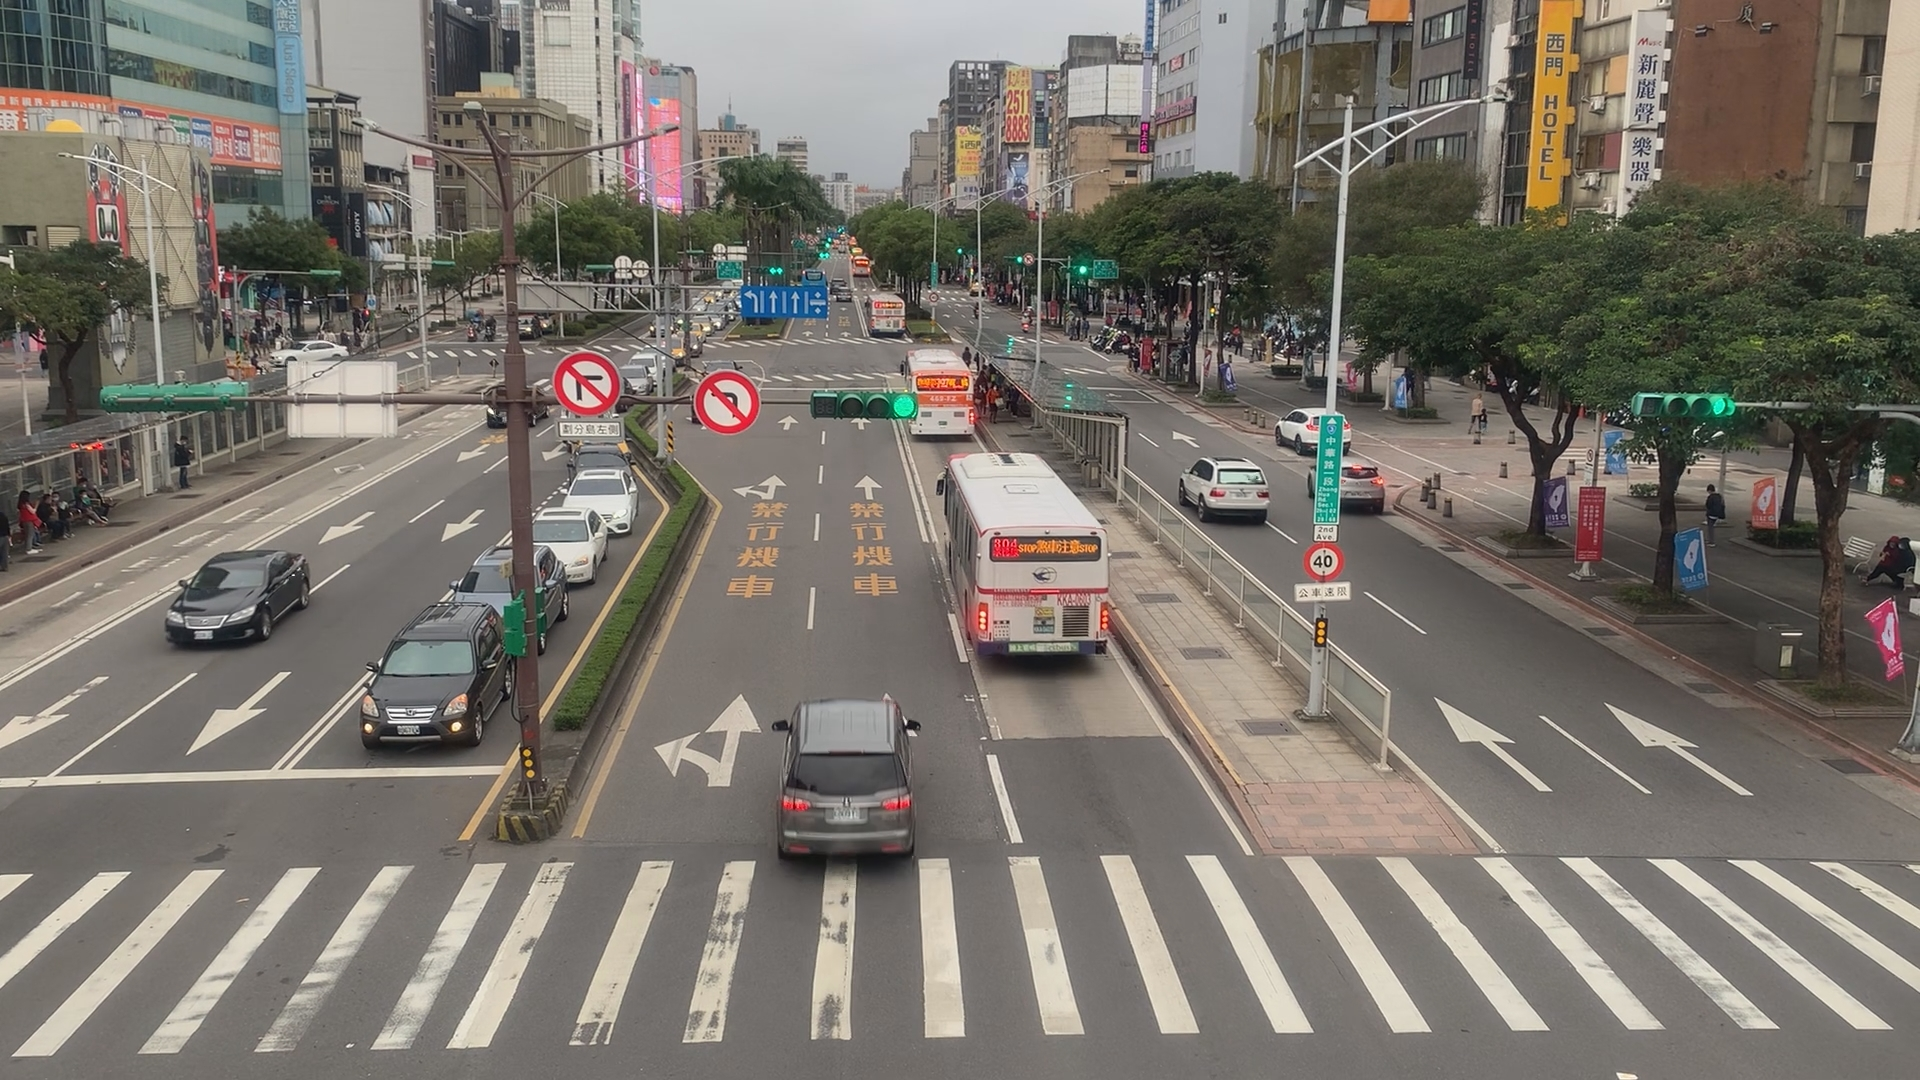Bus: (938, 454, 1108, 655), (898, 338, 985, 442), (862, 291, 909, 343), (851, 253, 873, 277)
Motorcycle: (1021, 309, 1040, 335), (975, 295, 985, 319)
Private Passenger Car: (782, 694, 928, 872), (372, 603, 506, 744), (171, 553, 328, 646), (440, 549, 567, 647), (506, 502, 603, 592), (1180, 444, 1269, 526), (555, 469, 659, 535), (1308, 452, 1395, 516), (568, 436, 647, 497), (262, 328, 363, 375), (1267, 401, 1350, 455), (484, 382, 543, 433), (618, 342, 662, 382), (615, 363, 653, 402), (647, 314, 688, 348), (514, 314, 546, 343), (836, 282, 860, 311), (825, 273, 847, 295)
